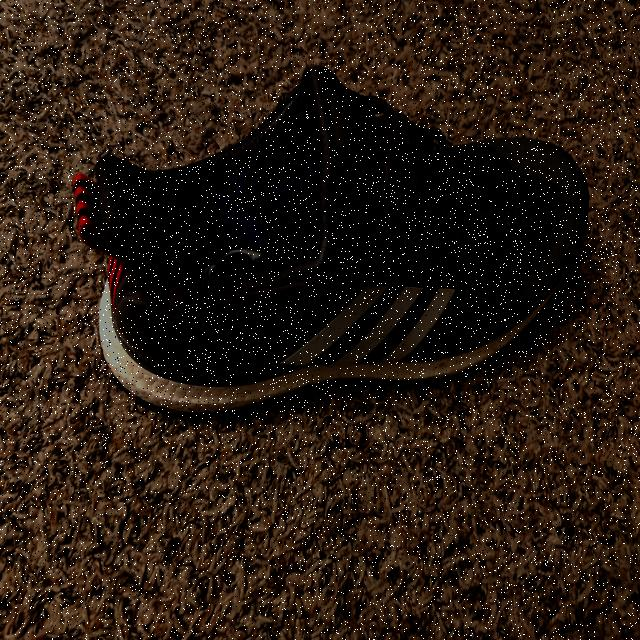black shoes: (75, 66, 588, 407)
